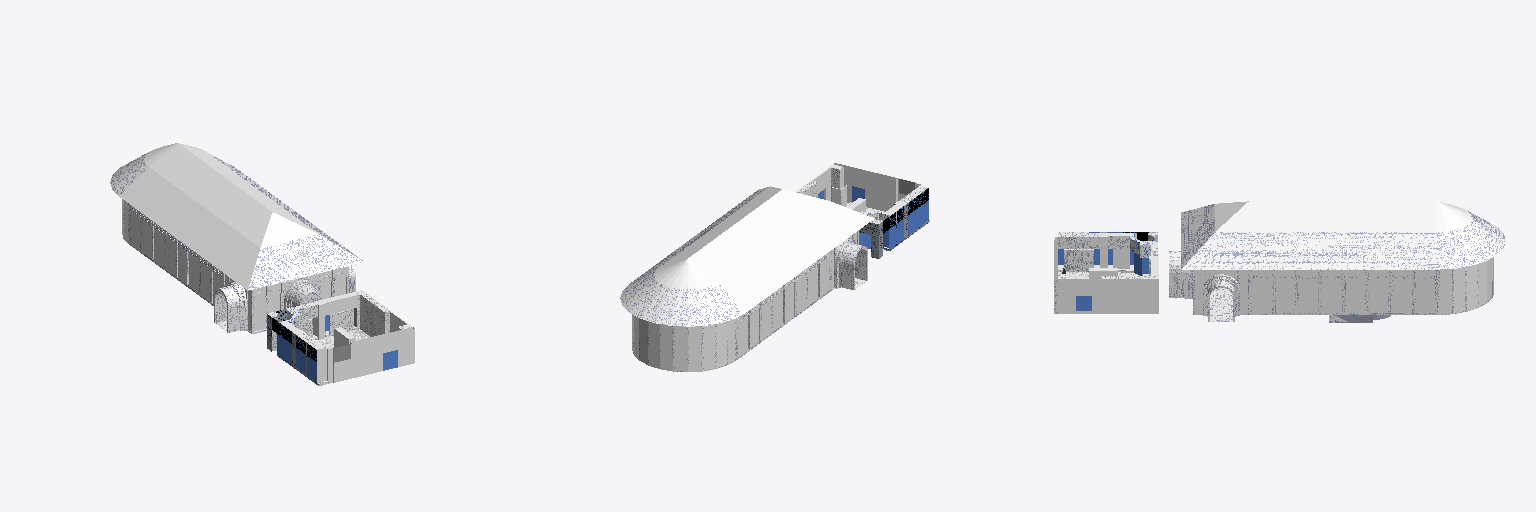
The model's file is GalleryInterior.blend.obj.
3 views of the same model, side by side, from view 1: azimuth 30°, elevation 25°; view 2: azimuth 150°, elevation 25°; view 3: azimuth 270°, elevation 25° (orthographic).
Visible parts, largest first — view 1: SketchUp_ID226, SketchUp.199_ID1194, SketchUp.198_ID1186, SketchUp.294_ID229, SketchUp.359_ID777, SketchUp.306_ID335, SketchUp.308_ID353; view 2: SketchUp_ID226, SketchUp.199_ID1194, SketchUp.198_ID1186, SketchUp.294_ID229, SketchUp.057_ID706, SketchUp.056_ID698; view 3: SketchUp_ID226, SketchUp.199_ID1194, SketchUp.339_ID608, SketchUp.151_ID810, SketchUp.296_ID251, SketchUp.040_ID570, SketchUp.035_ID530, SketchUp.038_ID554, SketchUp.037_ID546, SketchUp.036_ID538, SketchUp.034_ID522, SketchUp.032_ID506 (+4 smaller).
Part boxes in pixels (left/top/right/bottom): SketchUp_ID226: left=110, top=151, right=363, bottom=333; SketchUp.199_ID1194: left=144, top=143, right=317, bottom=247; SketchUp.198_ID1186: left=119, top=167, right=259, bottom=290; SketchUp.294_ID229: left=317, top=327, right=414, bottom=382; SketchUp.359_ID777: left=354, top=295, right=389, bottom=336; SketchUp.306_ID335: left=313, top=292, right=356, bottom=339; SketchUp.308_ID353: left=325, top=290, right=388, bottom=336; SketchUp_ID226: left=620, top=187, right=867, bottom=371; SketchUp.199_ID1194: left=654, top=186, right=827, bottom=288; SketchUp.198_ID1186: left=718, top=201, right=874, bottom=311; SketchUp.294_ID229: left=835, top=163, right=920, bottom=211; SketchUp.057_ID706: left=675, top=326, right=686, bottom=370; SketchUp.056_ID698: left=689, top=326, right=700, bottom=370; SketchUp_ID226: left=1169, top=204, right=1505, bottom=321; SketchUp.199_ID1194: left=1215, top=201, right=1471, bottom=231; SketchUp.339_ID608: left=1058, top=279, right=1158, bottom=313; SketchUp.151_ID810: left=1253, top=270, right=1434, bottom=312; SketchUp.296_ID251: left=1058, top=232, right=1099, bottom=248; SketchUp.040_ID570: left=1322, top=279, right=1341, bottom=312; SketchUp.035_ID530: left=1252, top=279, right=1271, bottom=312; SketchUp.038_ID554: left=1276, top=279, right=1294, bottom=312; SketchUp.037_ID546: left=1369, top=279, right=1387, bottom=312; SketchUp.036_ID538: left=1393, top=279, right=1411, bottom=312; SketchUp.034_ID522: left=1346, top=279, right=1364, bottom=312; SketchUp.032_ID506: left=1299, top=279, right=1317, bottom=312.
Bounding box in the file's own units: 16.24 × 13.34 × 49.57.